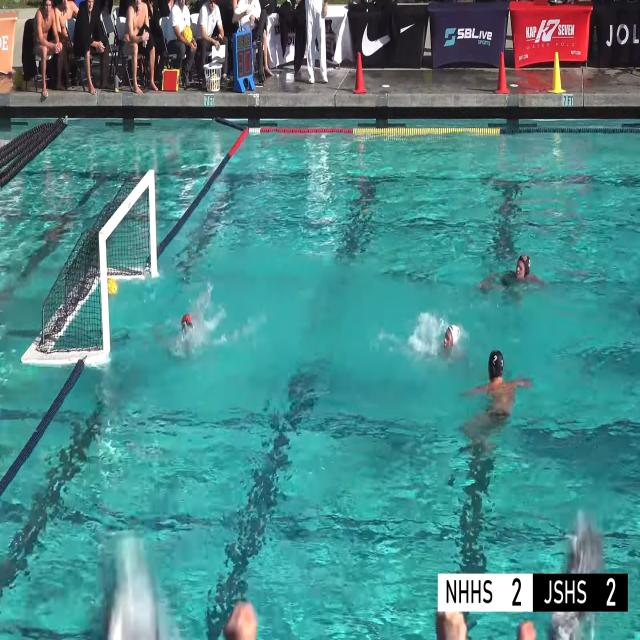ball: (108, 278, 118, 294)
